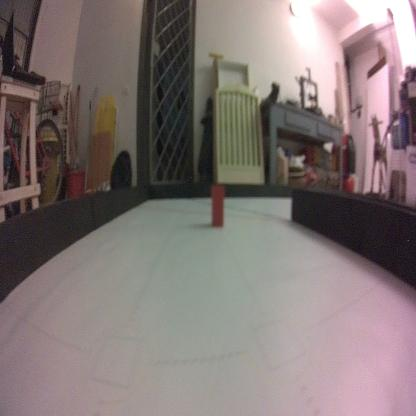red: (211, 183, 225, 228)
